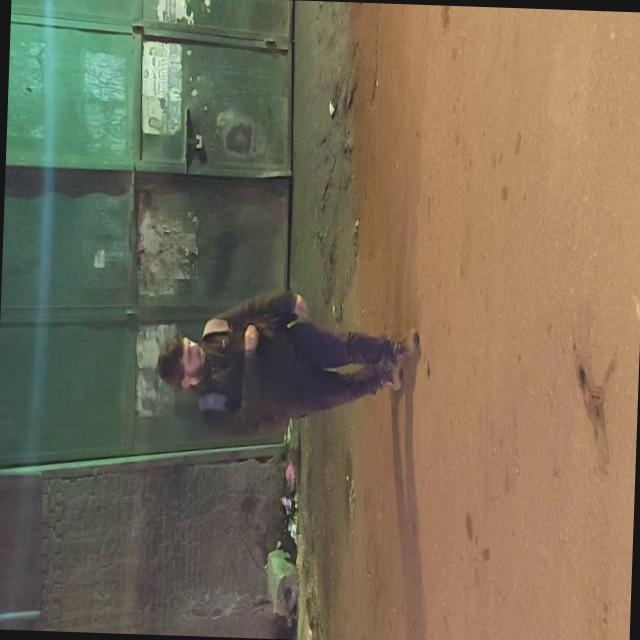long weapon: (218, 276, 312, 366)
